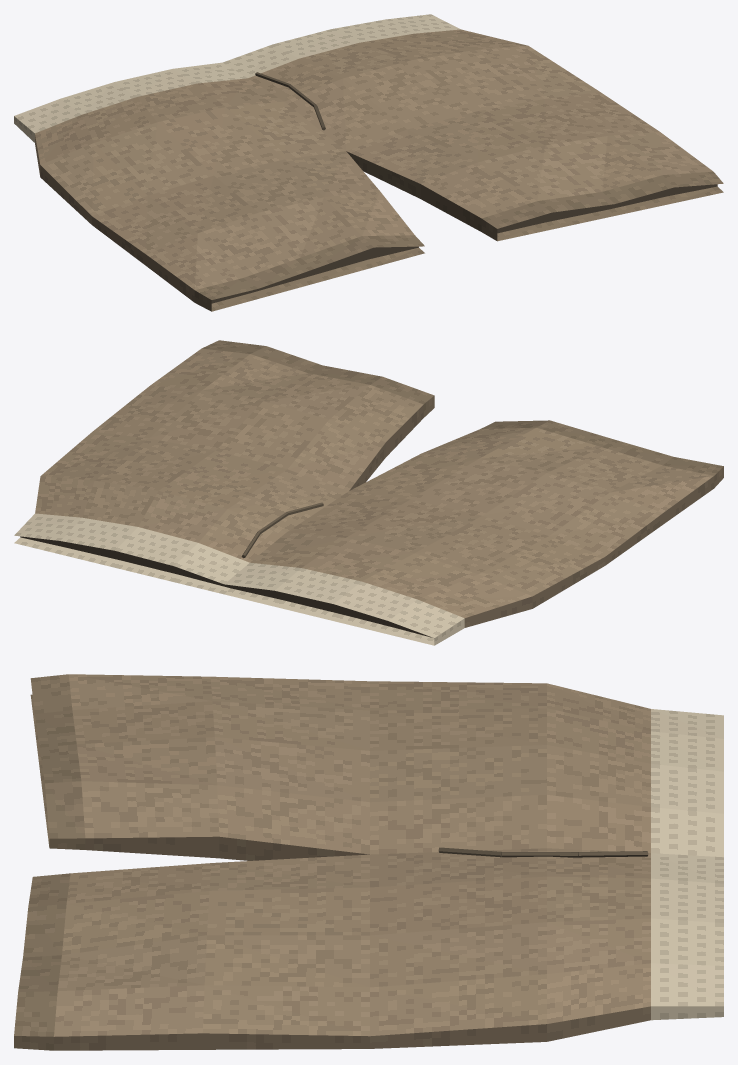
Rendered from xsboxer_shorts.glb.
3 renders of one model, top to bottom at view 1: azimuth 30°, elevation 25°; view 2: azimuth 150°, elevation 25°; view 3: azimuth 270°, elevation 25°, orthographic. The views are drawn at different scales.
Visible parts, largest first — view 1: block_sewn shorts with open waist and cuffs; view 2: block_sewn shorts with open waist and cuffs; view 3: block_sewn shorts with open waist and cuffs.
Part boxes in pixels (left/top/right/bottom): block_sewn shorts with open waist and cuffs: left=14, top=14, right=723, bottom=311; block_sewn shorts with open waist and cuffs: left=14, top=340, right=723, bottom=645; block_sewn shorts with open waist and cuffs: left=14, top=674, right=723, bottom=1050.
Bounding box in the file's own units: 0.2997 × 0.0163 × 0.2508.
Materials: 1 (1 with a texture image).
